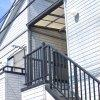stairs: (47, 81, 86, 100)
